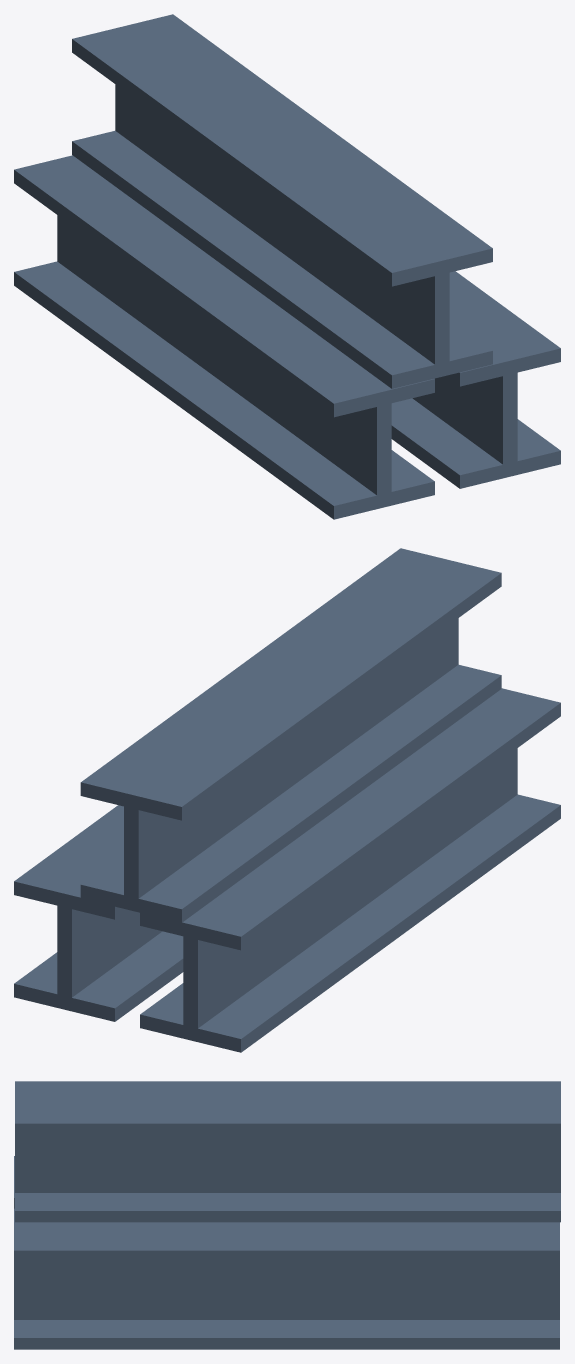
File: steel beams.fbx
3 views of the same model, one above another, from view 1: azimuth 30°, elevation 25°; view 2: azimuth 150°, elevation 25°; view 3: azimuth 270°, elevation 25° (orthographic). The views are drawn at different scales.
Parts seen in each view (by area): view 1: Construction_Props.002; view 2: Construction_Props.002; view 3: Construction_Props.002.
Part boxes in pixels (x1=…): Construction_Props.002: x1=14, y1=14, x2=560, y2=519; Construction_Props.002: x1=14, y1=548, x2=560, y2=1052; Construction_Props.002: x1=14, y1=1081, x2=560, y2=1349.
Size of the model in its own units: 139 by 136 by 341.
